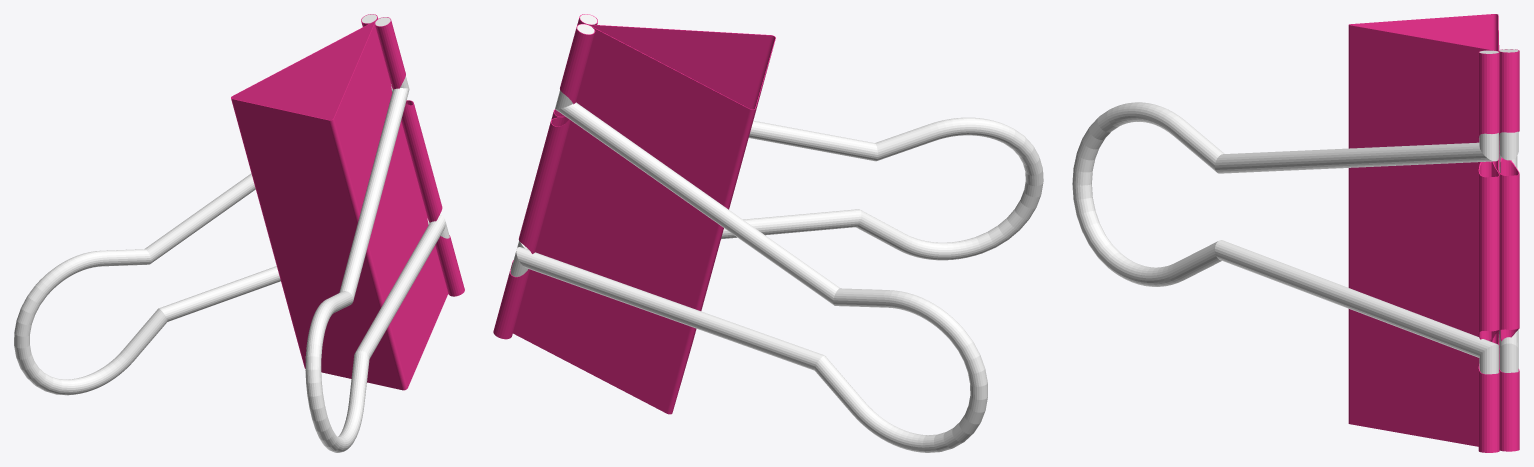
3 renders of one model, left to right at view 1: azimuth 30°, elevation 25°; view 2: azimuth 150°, elevation 25°; view 3: azimuth 270°, elevation 25°, orthographic. The views are drawn at different scales.
Parts seen in each view (by area): view 1: small binder clip; view 2: small binder clip; view 3: small binder clip.
Part boxes in pixels (x1,y1,x2,y2): small binder clip: [14, 14, 464, 452]; small binder clip: [493, 14, 1043, 452]; small binder clip: [1072, 14, 1519, 452].
Bounding box in the file's own units: 1.29 × 0.9299 × 0.9221.
